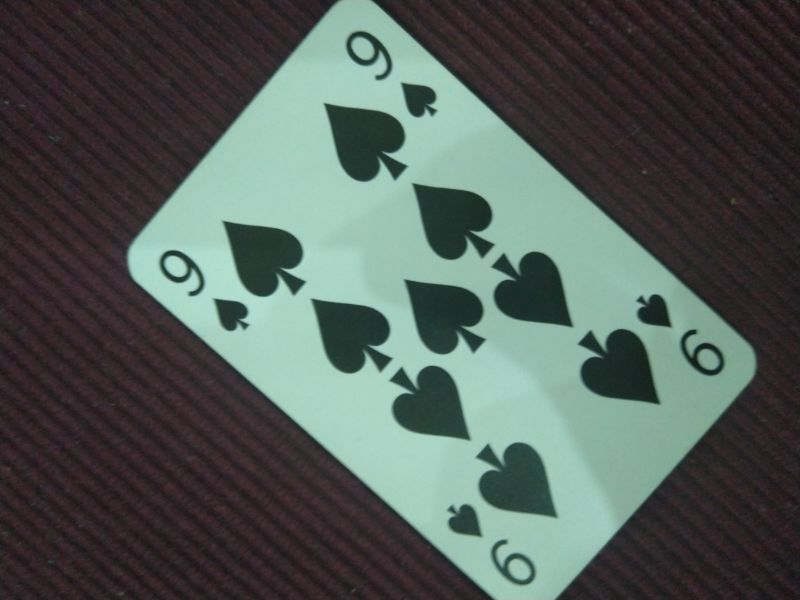9s: (155, 245, 257, 339), (343, 27, 443, 122), (633, 288, 730, 377), (444, 499, 539, 589)
